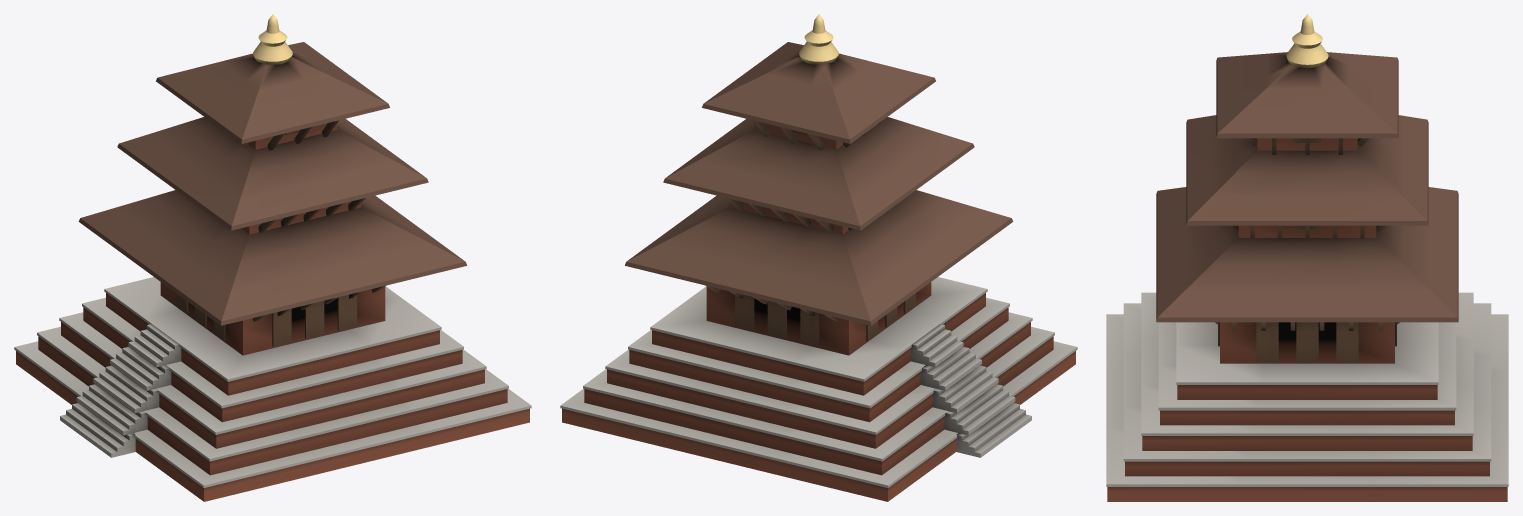
The model's file is narayan-mandir.glb.
The picture shows the model from 3 angles, left to right: view 1: azimuth 30°, elevation 25°; view 2: azimuth 150°, elevation 25°; view 3: azimuth 270°, elevation 25°; orthographic projection. The views are drawn at different scales.
Parts seen in each view (by area): view 1: model-brick, model-tile, model-wood, model-gold; view 2: model-brick, model-tile, model-wood, model-gold; view 3: model-brick, model-tile, model-wood, model-gold.
Part boxes in pixels (<box>): model-brick: <box>14,123,531,501</box>; model-tile: <box>78,42,466,325</box>; model-wood: <box>176,120,385,346</box>; model-gold: <box>253,14,292,64</box>; model-brick: <box>560,123,1077,501</box>; model-tile: <box>625,42,1013,325</box>; model-wood: <box>706,120,915,346</box>; model-gold: <box>799,14,838,64</box>; model-brick: <box>1106,138,1508,501</box>; model-tile: <box>1156,52,1458,322</box>; model-wood: <box>1215,138,1399,362</box>; model-gold: <box>1286,14,1328,68</box>.
Bounding box in the file's own units: 17.25 × 17.8 × 16.1.
Materials: 4 (4 with a texture image).
